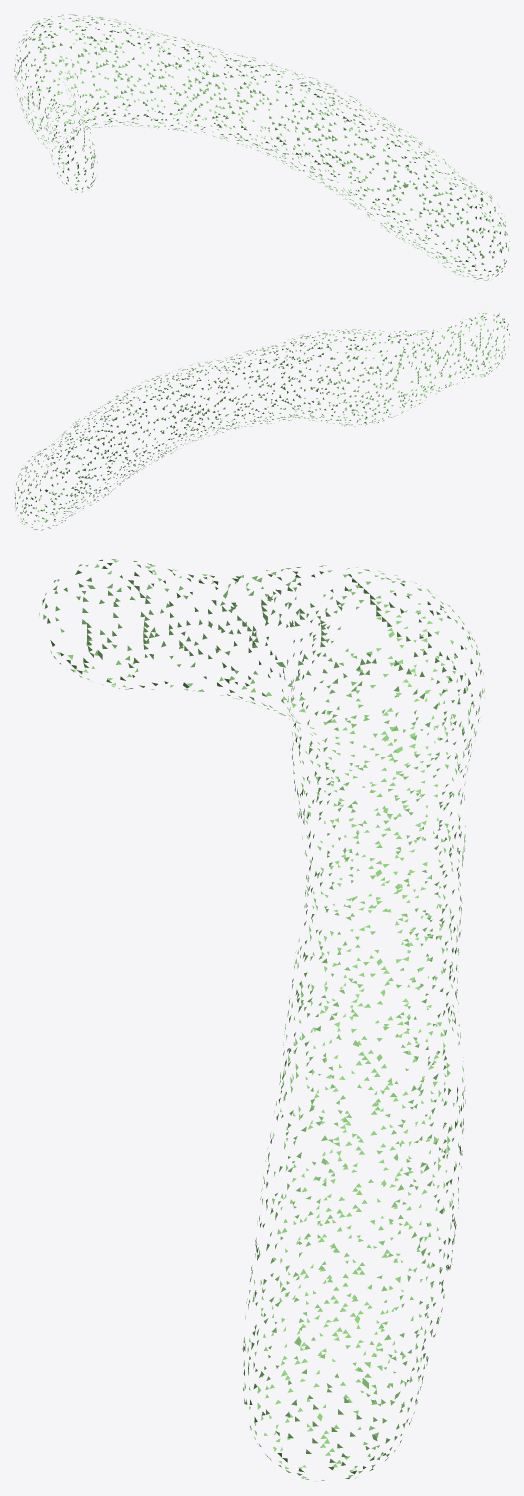
Rendered from morph_015.glb.
3 renders of one model, top to bottom at view 1: azimuth 30°, elevation 25°; view 2: azimuth 150°, elevation 25°; view 3: azimuth 270°, elevation 25°, orthographic. The views are drawn at different scales.
Size of the model in its own units: 113 by 73.59 by 52.26.
